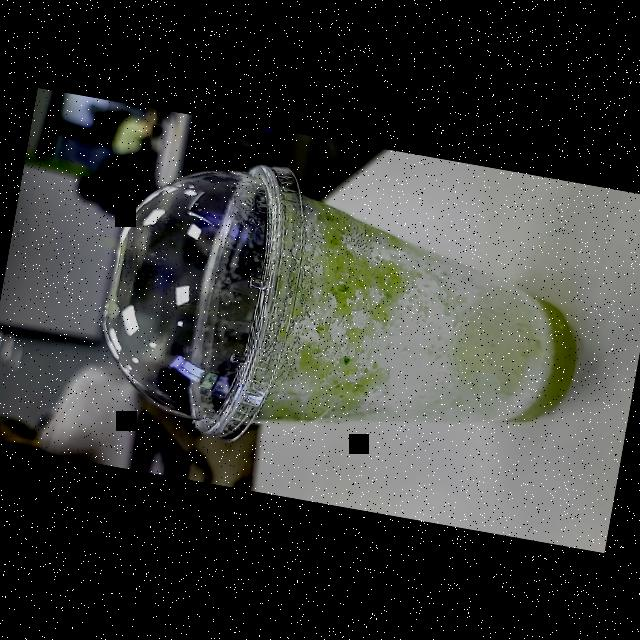plastic_cup: (84, 139, 600, 499), (82, 134, 320, 448)
